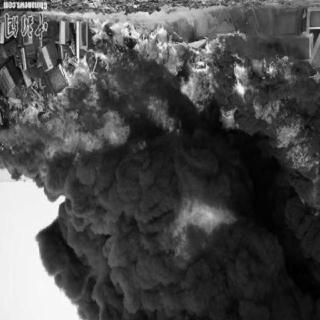Fire: (7, 21, 224, 169), (223, 55, 320, 223), (155, 198, 233, 268)
Smoke: (11, 134, 308, 306)
